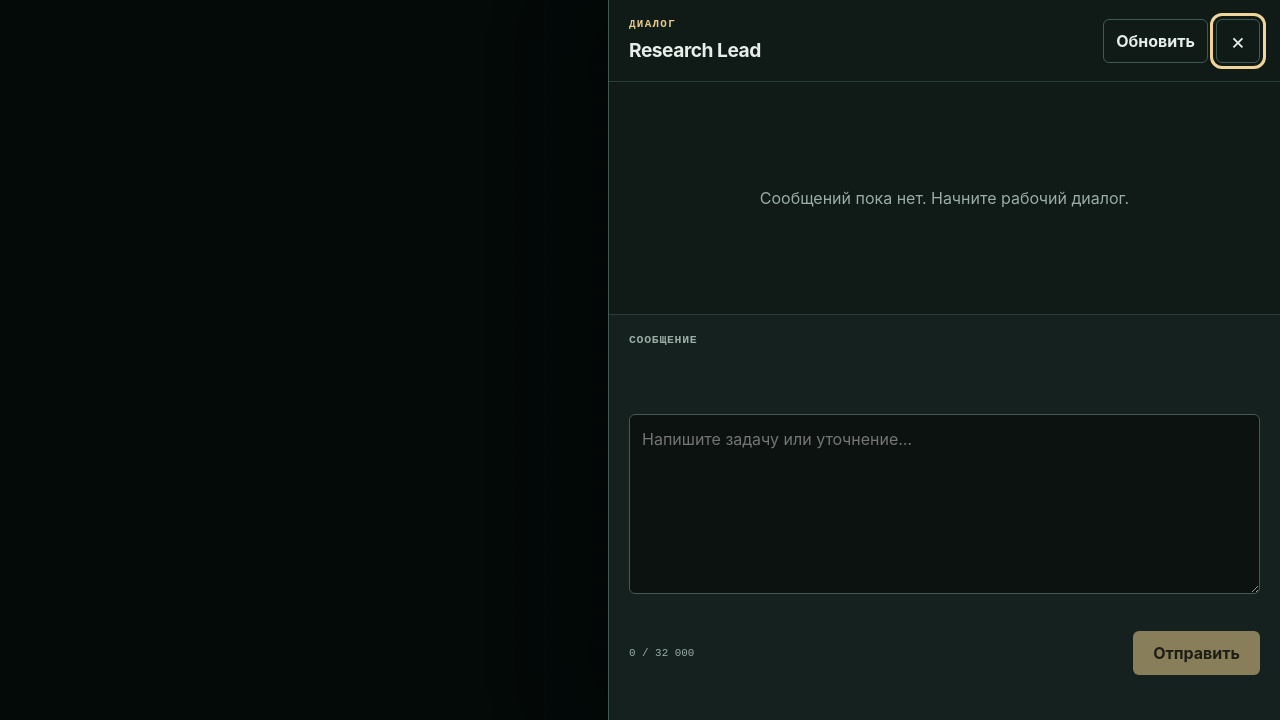
ConversationDrawer › loads a canonical Agent conversation and sends without inventing an Agent reply
This screenshot has width=1280, height=720.
Expected: the heading "Research Lead" is shown, [629,36,761,65]
Step 1. Type "Проверь протокол" into the text box labelled "Сообщение" → (944, 504), box [629,414,1260,594]
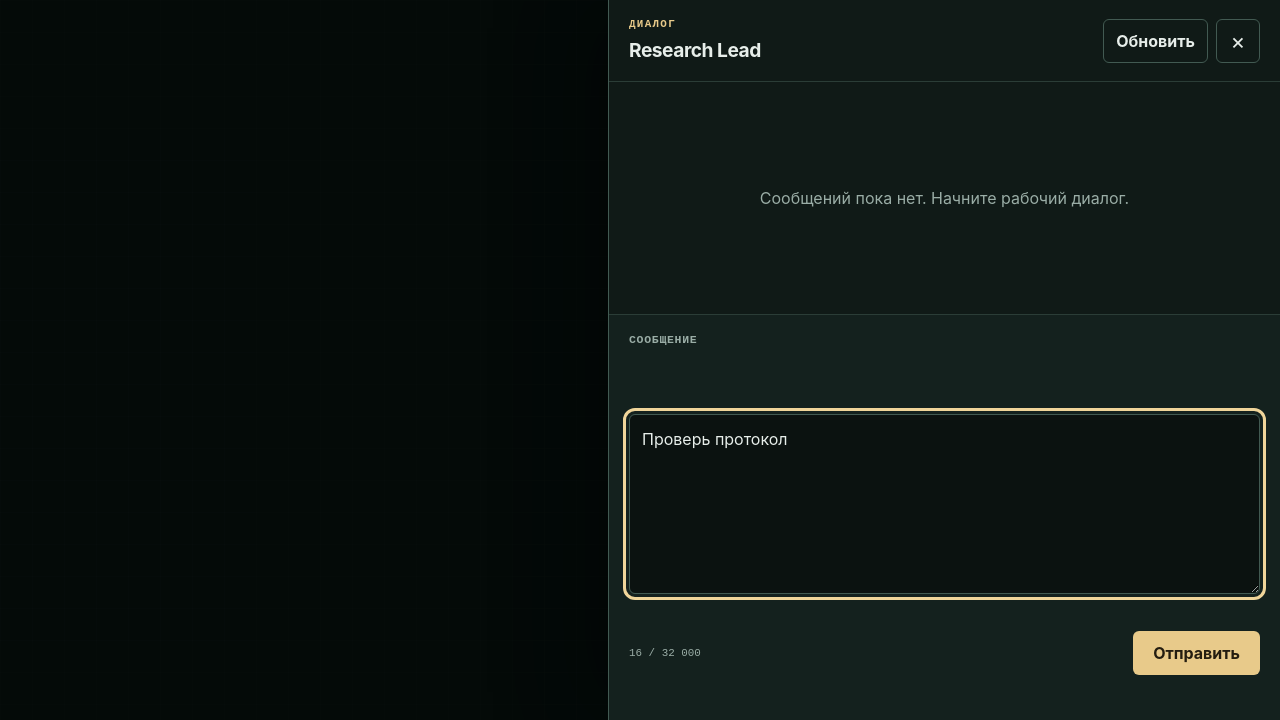
Step 2. Click the button "Отправить" → (1197, 653), box [1133,631,1260,675]
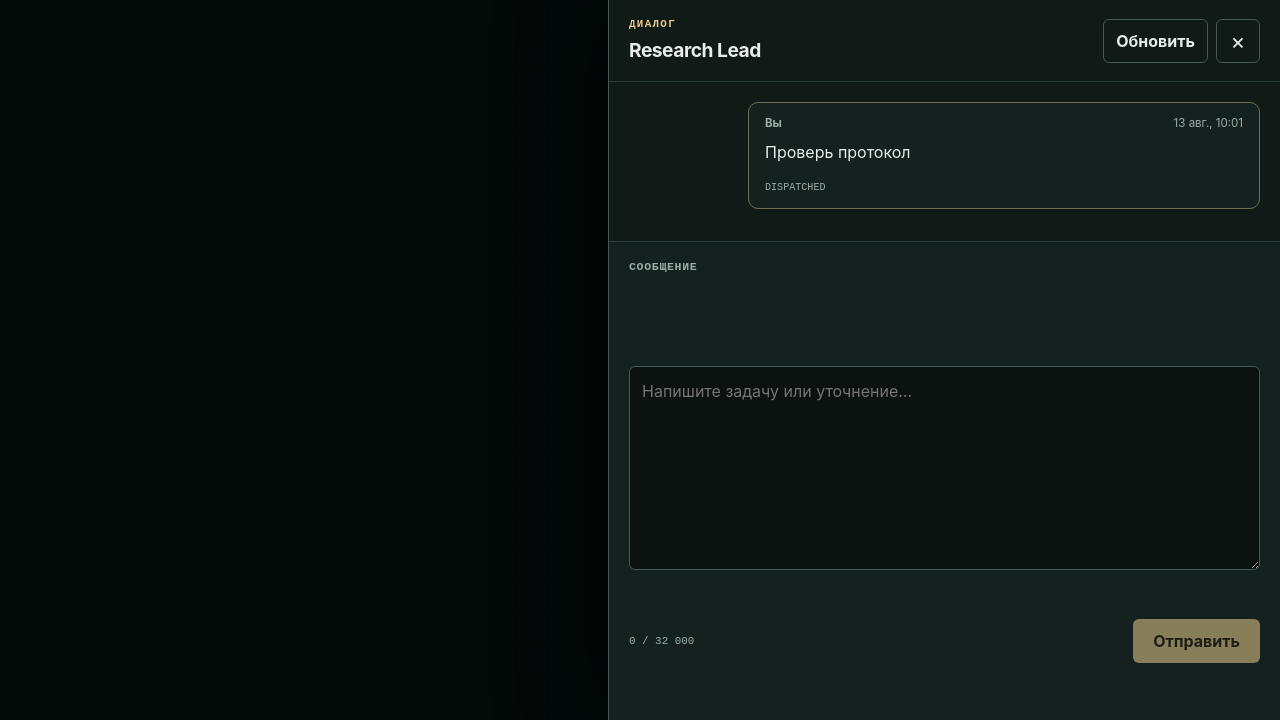
Expected: the text "Проверь протокол" is shown, [765,142,911,162]
